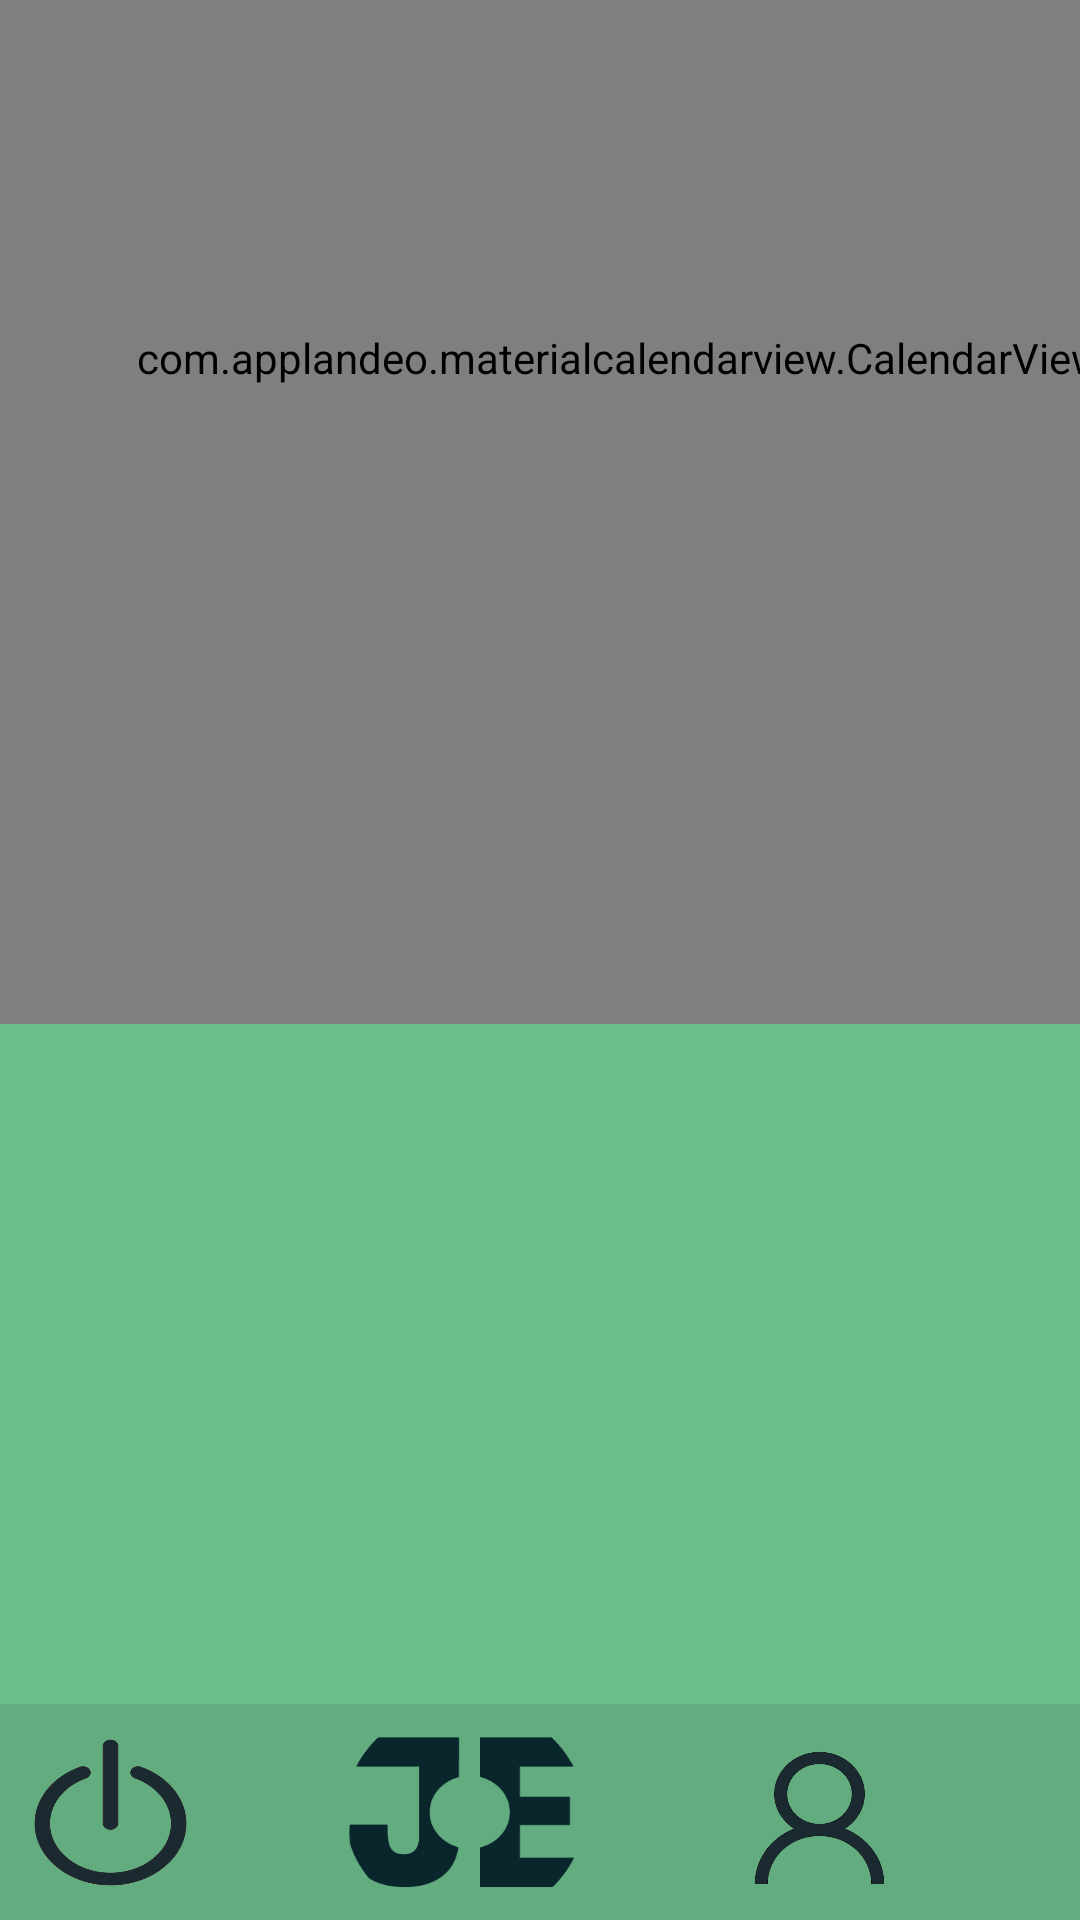

Icon bounding boxes for this 1080 × 1920 phone screenshot, format (x1, y1, x2, y2):
perfil: (755, 1752, 884, 1884)
salir: (34, 1739, 187, 1886)
